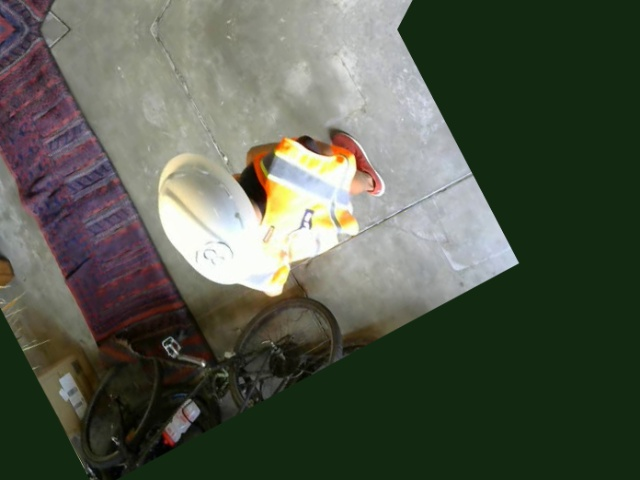eight: (185, 232, 239, 286)
